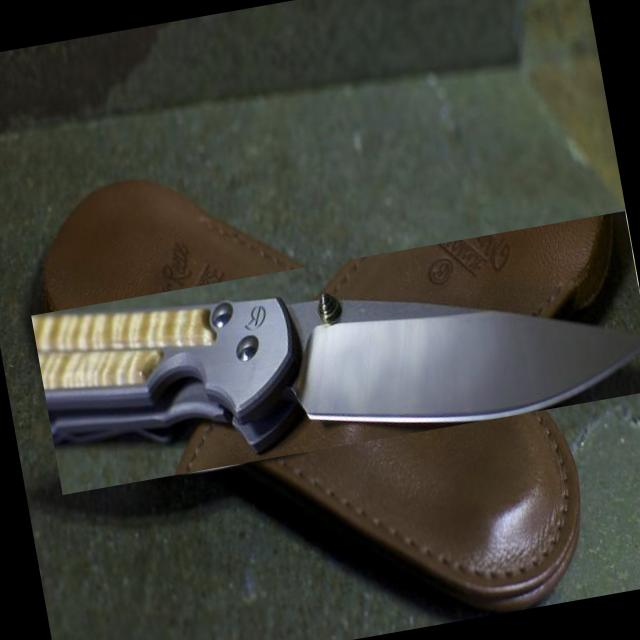Knife: (31, 295, 640, 453)
